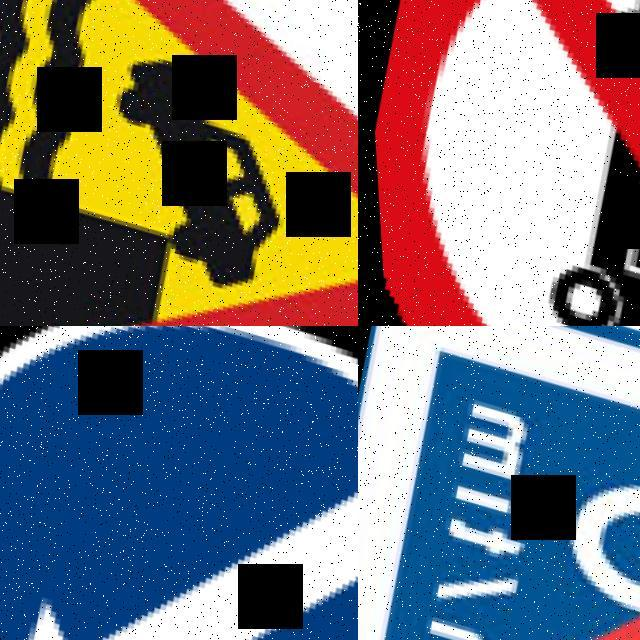103: (358, 326, 640, 640)
145: (0, 0, 358, 326)
Keep left: (0, 326, 358, 640)
No entry for Trucks: (358, 0, 640, 326)
